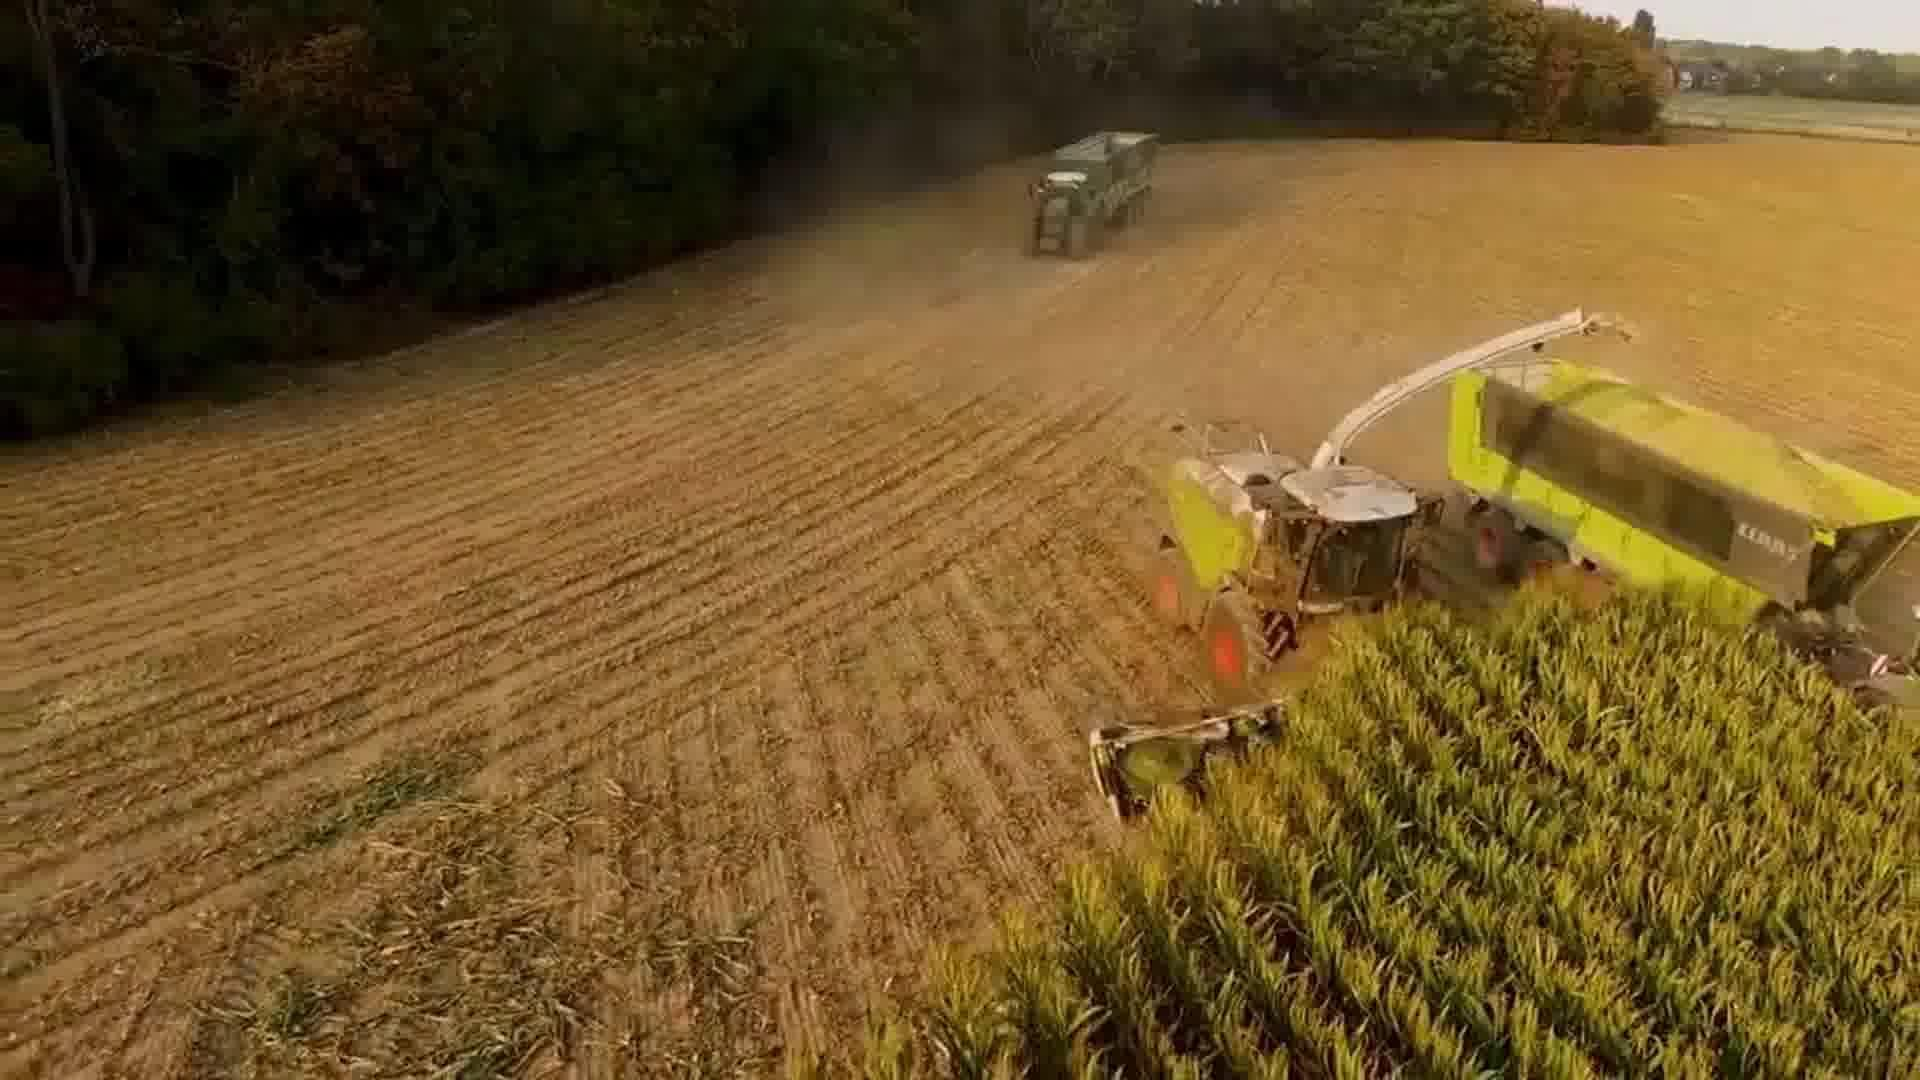combine harvester: (1076, 285, 1643, 839)
tractor: (1015, 167, 1105, 269)
trailer: (1447, 338, 1920, 658), (1043, 124, 1163, 237)
